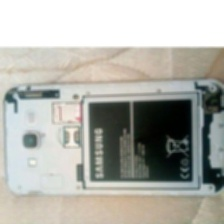phone: (0, 78, 224, 201)
